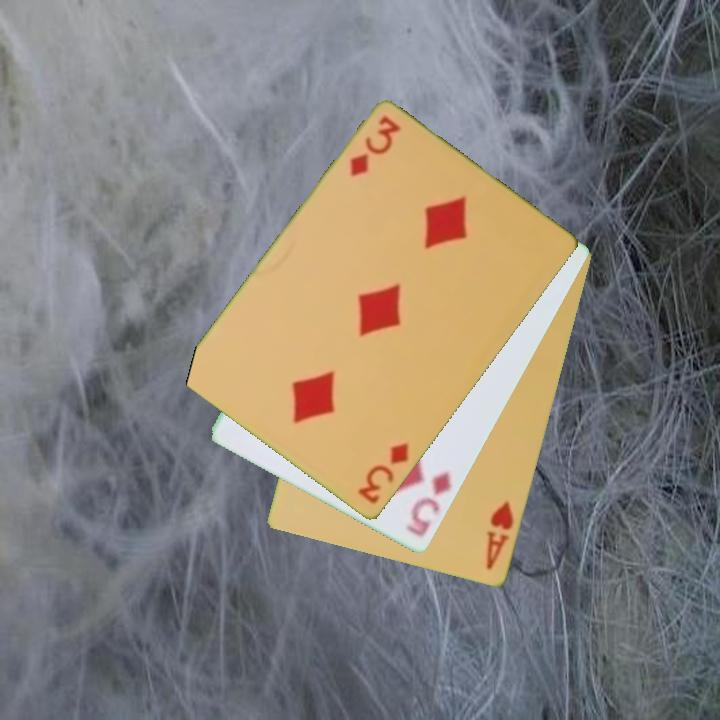3d: (354, 439, 412, 508), (346, 113, 404, 180)
5d: (402, 468, 455, 541)
Ah: (482, 498, 517, 573)
